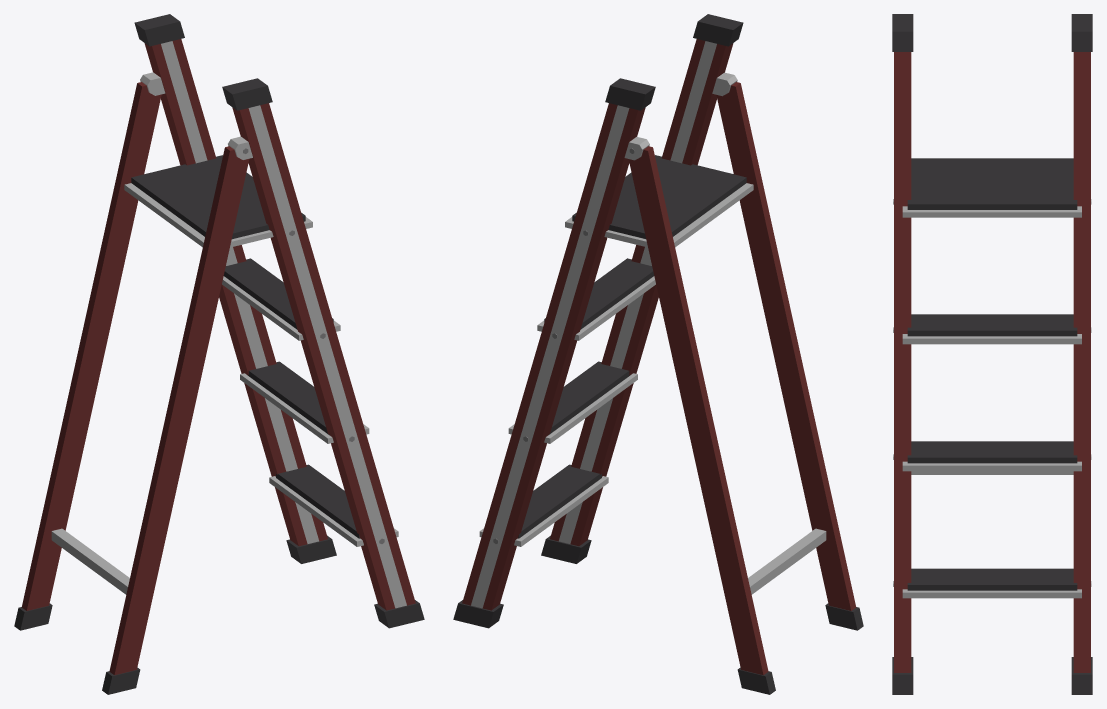
File: SM_ladder_01.gltf
The picture shows the model from 3 angles, left to right: view 1: azimuth 30°, elevation 25°; view 2: azimuth 150°, elevation 25°; view 3: azimuth 270°, elevation 25°; orthographic projection. The views are drawn at different scales.
Parts seen in each view (by area): view 1: SM_ladder_01; view 2: SM_ladder_01; view 3: SM_ladder_01.
Part boxes in pixels (<box>): SM_ladder_01: <box>14,14,424,694</box>; SM_ladder_01: <box>453,14,863,694</box>; SM_ladder_01: <box>892,14,1092,694</box>.
Bounding box in the file's own units: 1.29 × 2.24 × 0.6947.
Materials: 1 (1 with a texture image).
